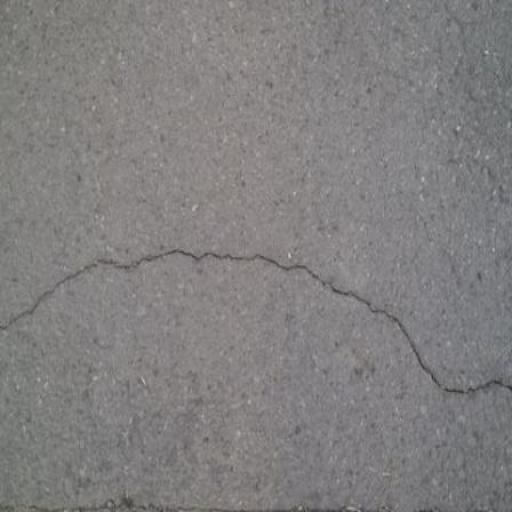spalling: (8, 240, 511, 413)
